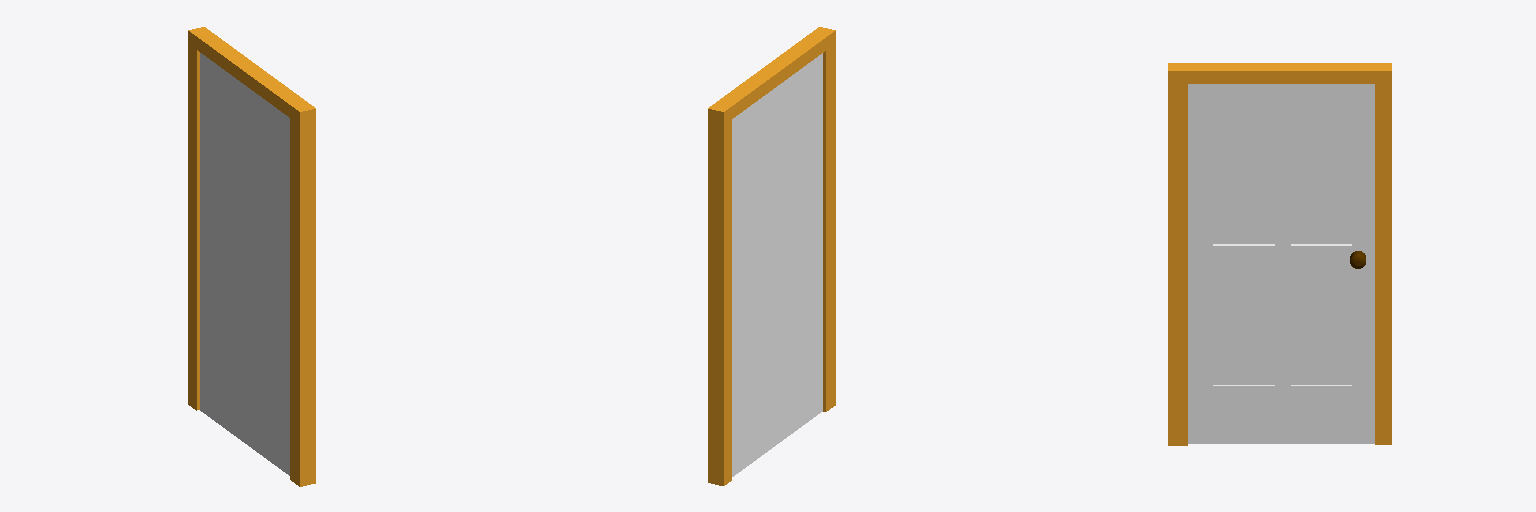
The model's file is Door.obj.
3 views of the same model, side by side, from view 1: azimuth 30°, elevation 25°; view 2: azimuth 150°, elevation 25°; view 3: azimuth 270°, elevation 25° (orthographic).
Parts seen in each view (by area): view 1: Cube, Cube.001; view 2: Cube, Cube.001; view 3: Cube, Cube.001.
Part boxes in pixels (left/top/right/bottom): Cube: left=200, top=53, right=289, bottom=475; Cube.001: left=188, top=27, right=315, bottom=486; Cube: left=732, top=53, right=822, bottom=476; Cube.001: left=708, top=27, right=835, bottom=485; Cube: left=1188, top=84, right=1374, bottom=443; Cube.001: left=1168, top=63, right=1391, bottom=445.
Bounding box in the file's own units: 0.1344 × 2.05 × 1.11.